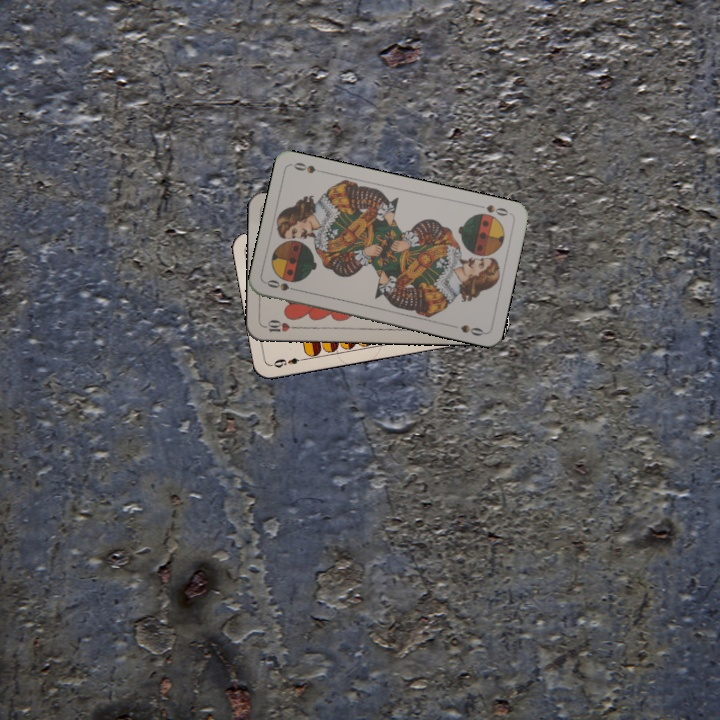E9: (270, 353, 308, 370)
H10: (261, 317, 301, 334)
SO: (263, 276, 303, 294), (473, 201, 511, 219)
